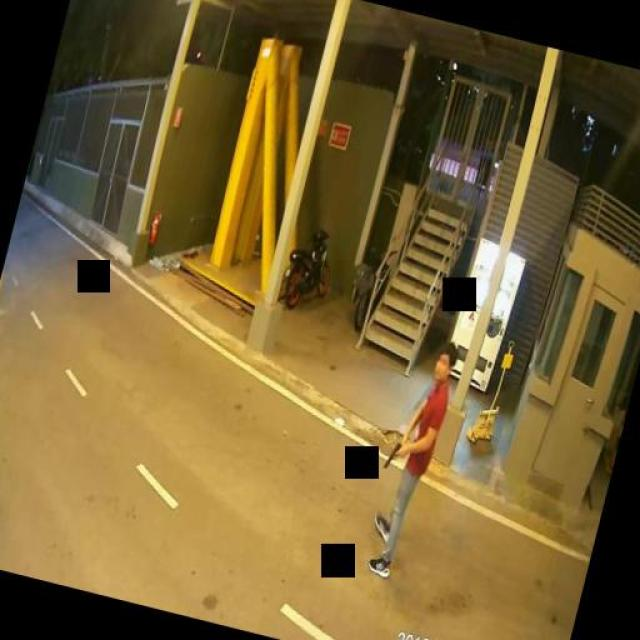gun: (384, 435, 405, 469)
